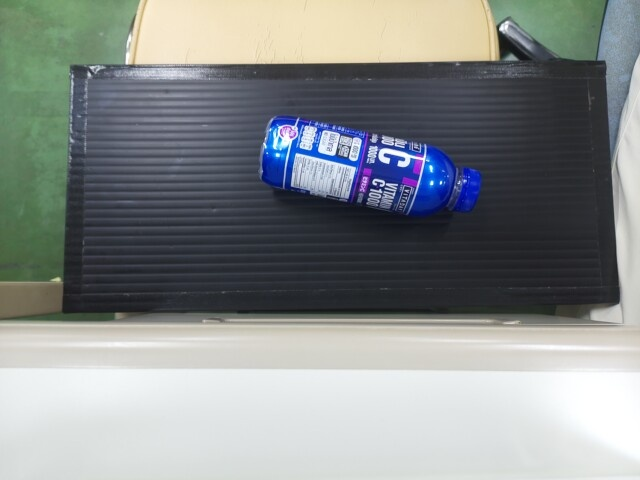plastic_bottle: (256, 111, 481, 218)
